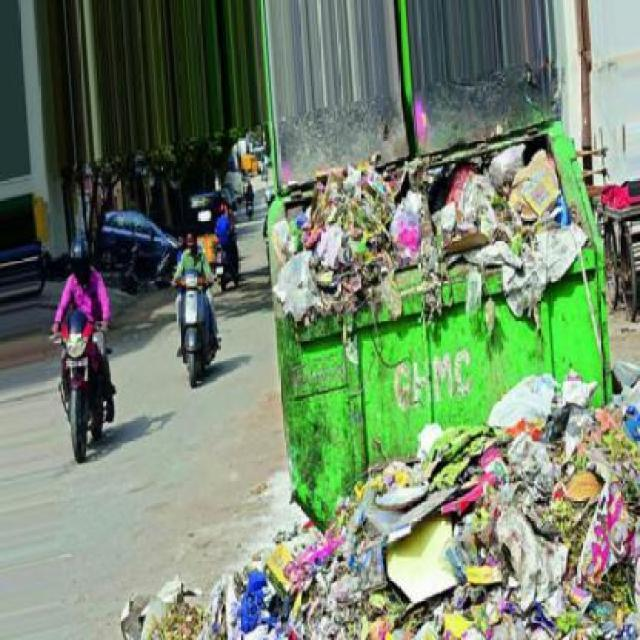garbage: (116, 489, 640, 640), (259, 154, 599, 347), (339, 371, 640, 502)
